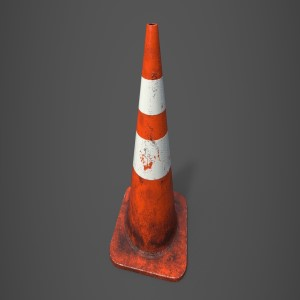traffic cone: (109, 22, 189, 283)
